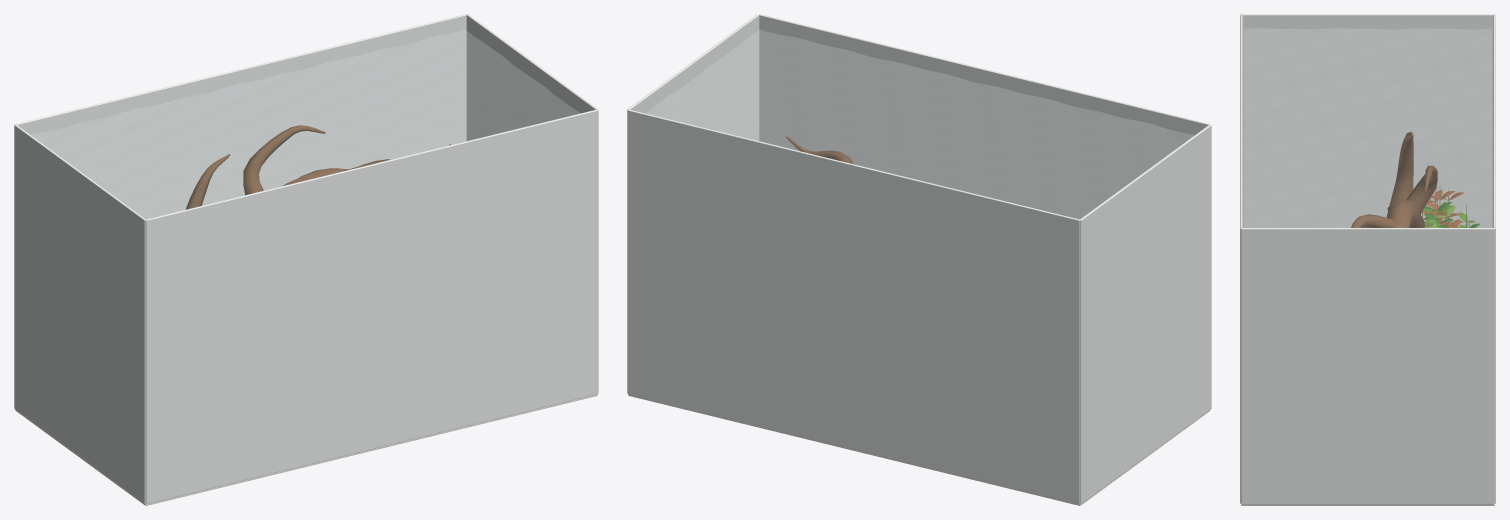
Rendered from aquarium.glb.
The picture shows the model from 3 angles, left to right: view 1: azimuth 30°, elevation 25°; view 2: azimuth 150°, elevation 25°; view 3: azimuth 270°, elevation 25°; orthographic projection. The views are drawn at different scales.
Parts seen in each view (by area): view 1: tank.glass.front, water.surface, tank.glass.back, tank.glass.left, tank.glass.right, hardscape.wood.arch, tank.glass.base; view 2: tank.glass.back, tank.glass.front, water.surface, tank.glass.left, tank.glass.right, tank.glass.base; view 3: tank.glass.right, tank.glass.left, water.surface, hardscape.wood.arch, tank.glass.back, tank.glass.front, plants.stem.015, tank.glass.base, plants.stem.009.
Part boxes in pixels (x1=…): tank.glass.front: x1=145, y1=109, x2=598, y2=503; water.surface: x1=32, y1=30, x2=579, y2=218; tank.glass.back: x1=15, y1=14, x2=466, y2=219; tank.glass.left: x1=14, y1=124, x2=145, y2=503; tank.glass.right: x1=466, y1=14, x2=598, y2=392; hardscape.wood.arch: x1=185, y1=125, x2=450, y2=209; tank.glass.base: x1=15, y1=394, x2=597, y2=505; tank.glass.back: x1=627, y1=109, x2=1080, y2=503; tank.glass.front: x1=759, y1=14, x2=1210, y2=219; water.surface: x1=647, y1=30, x2=1193, y2=218; tank.glass.left: x1=1080, y1=124, x2=1211, y2=503; tank.glass.right: x1=627, y1=14, x2=759, y2=392; tank.glass.base: x1=628, y1=394, x2=1210, y2=505; tank.glass.right: x1=1241, y1=228, x2=1494, y2=504; tank.glass.left: x1=1241, y1=14, x2=1494, y2=227; water.surface: x1=1244, y1=28, x2=1491, y2=227; hardscape.wood.arch: x1=1351, y1=131, x2=1437, y2=227; tank.glass.back: x1=1493, y1=14, x2=1495, y2=503; tank.glass.front: x1=1240, y1=14, x2=1242, y2=503; plants.stem.015: x1=1422, y1=185, x2=1464, y2=227; tank.glass.base: x1=1241, y1=504, x2=1494, y2=505; plants.stem.009: x1=1423, y1=195, x2=1455, y2=227.
Size of the model in its own units: 0.603 by 0.363 by 0.303.
